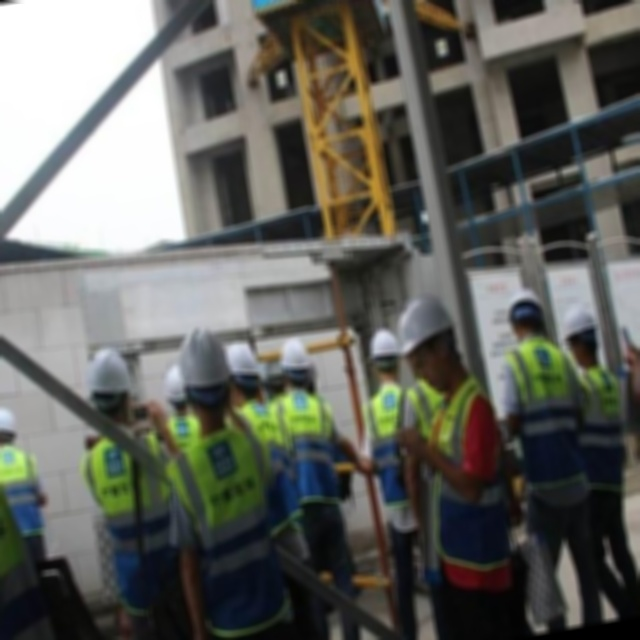Con_Casco: (389, 288, 466, 389), (172, 321, 240, 429)
Con_Chaleco: (159, 427, 301, 640), (404, 375, 528, 585), (504, 336, 594, 501)
